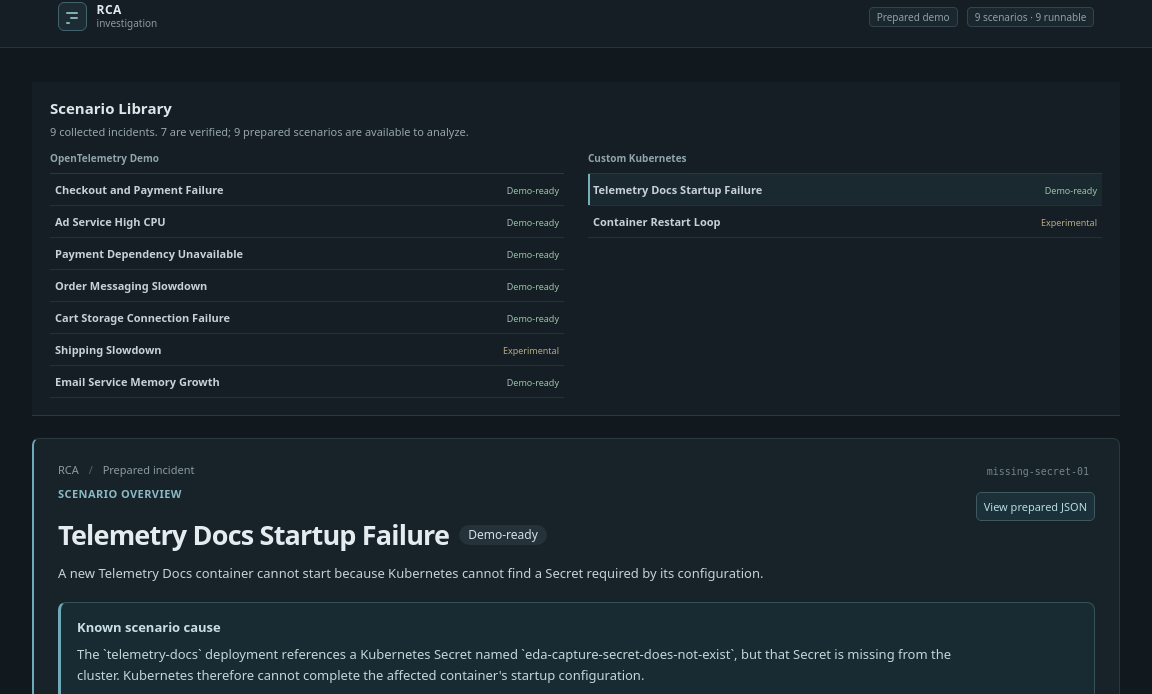
it: new scenario overview explains Cart Storage Connection Failure in plain language
expect the heading "Scenario overview" is shown: met, box [58,486,182,501]
Click the button "Cart Storage Connection Failure Demo-ready" at point(143, 317), box [50,302,564,334]
(page scrolled)
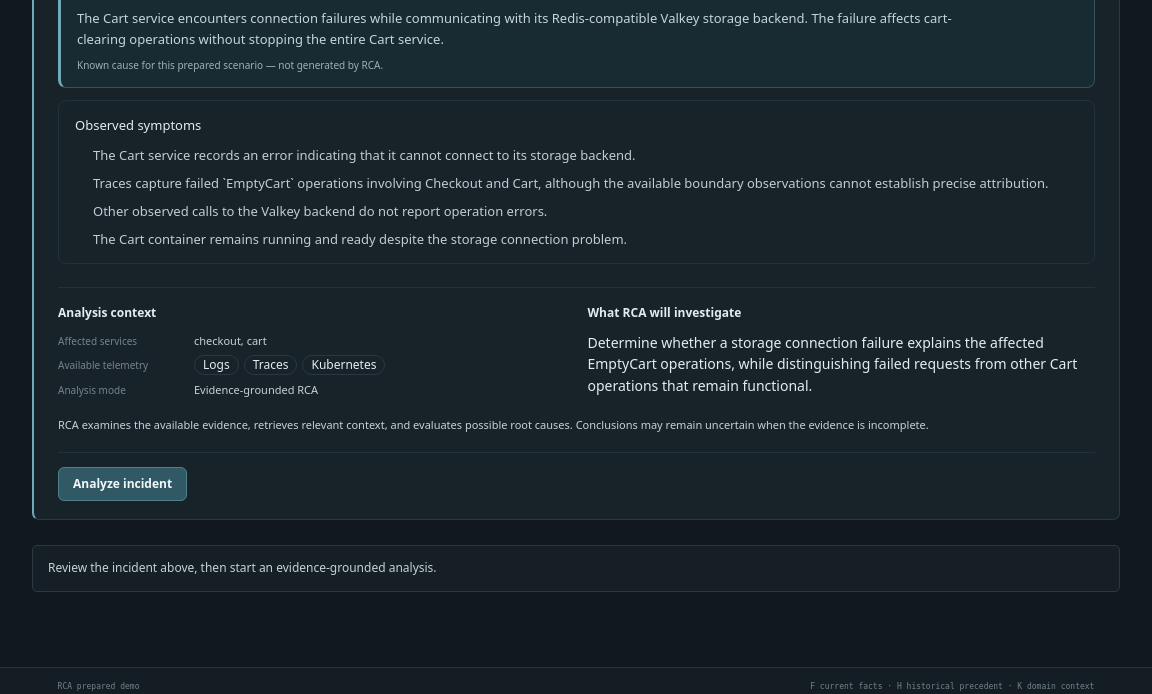
expect the text "Available telemetry" is shown: met, box [58,358,148,372]
expect the text "connection failures while communicating" is shown: met, box [77,9,952,48]
expect the list item "Other observed calls to the Valkey backend do not report operation errors." is shown: met, box [93,202,547,220]
